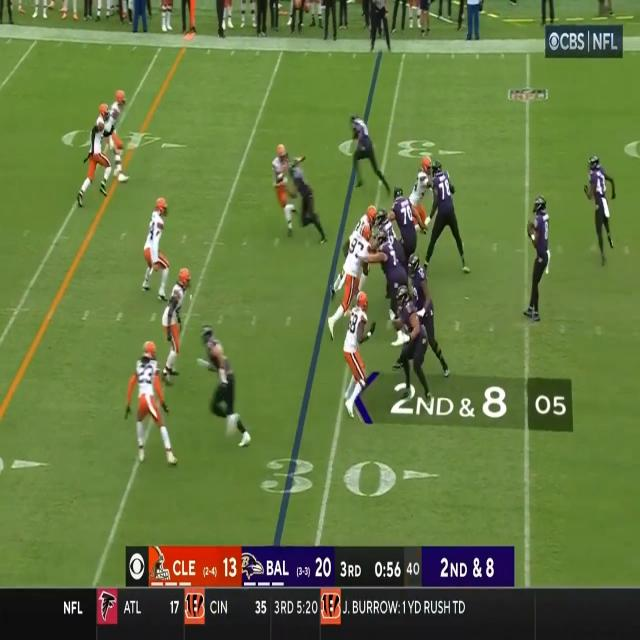players: (202, 328, 254, 454), (128, 345, 178, 474), (74, 98, 122, 215), (392, 284, 438, 402), (280, 149, 332, 252), (409, 260, 452, 381), (423, 164, 468, 279), (341, 292, 379, 424), (345, 115, 393, 213), (329, 228, 371, 335), (584, 156, 620, 273), (526, 183, 554, 321), (140, 192, 174, 304), (163, 263, 194, 381), (376, 227, 412, 320), (103, 85, 132, 190), (270, 141, 298, 243), (395, 192, 424, 274), (412, 158, 436, 232)
